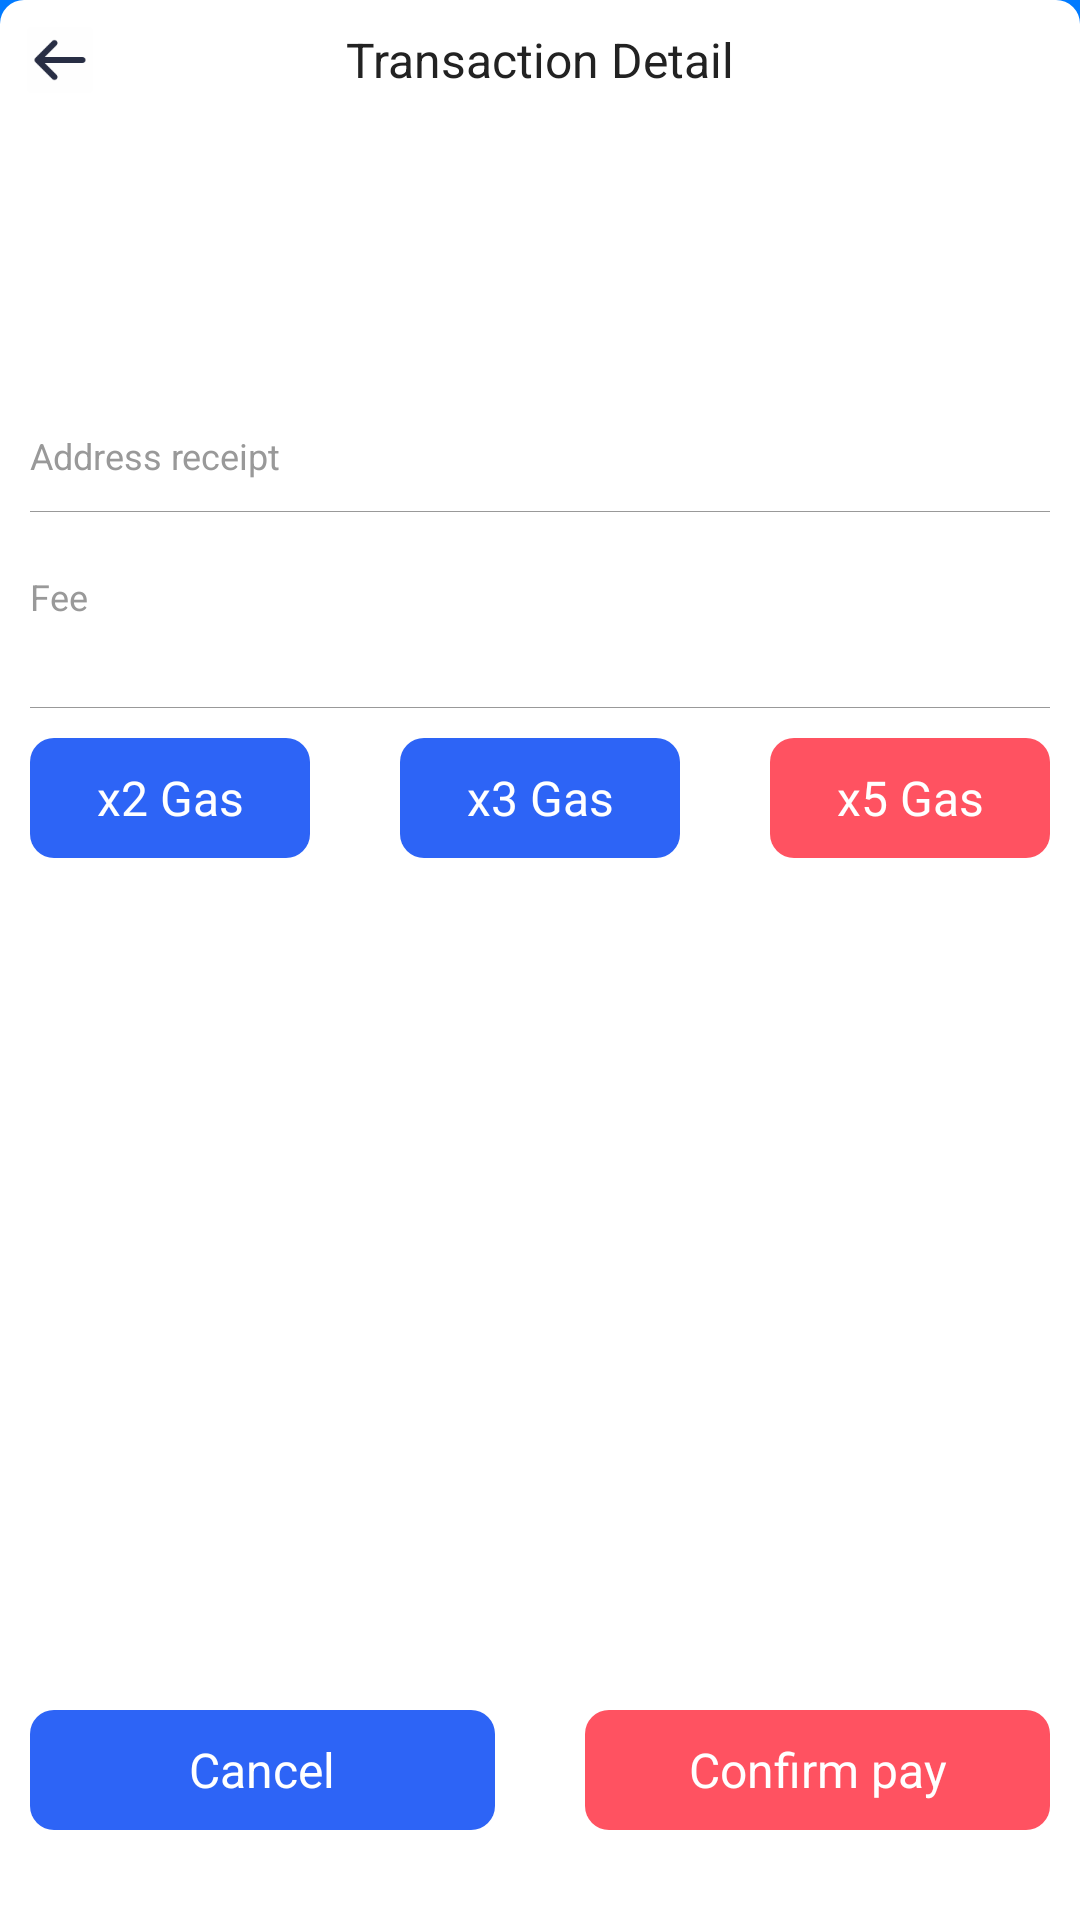

Where icons sit on this 1080x1920 app screen, as (x1, y1, x2, y2):
base back: (34, 40, 86, 80)
